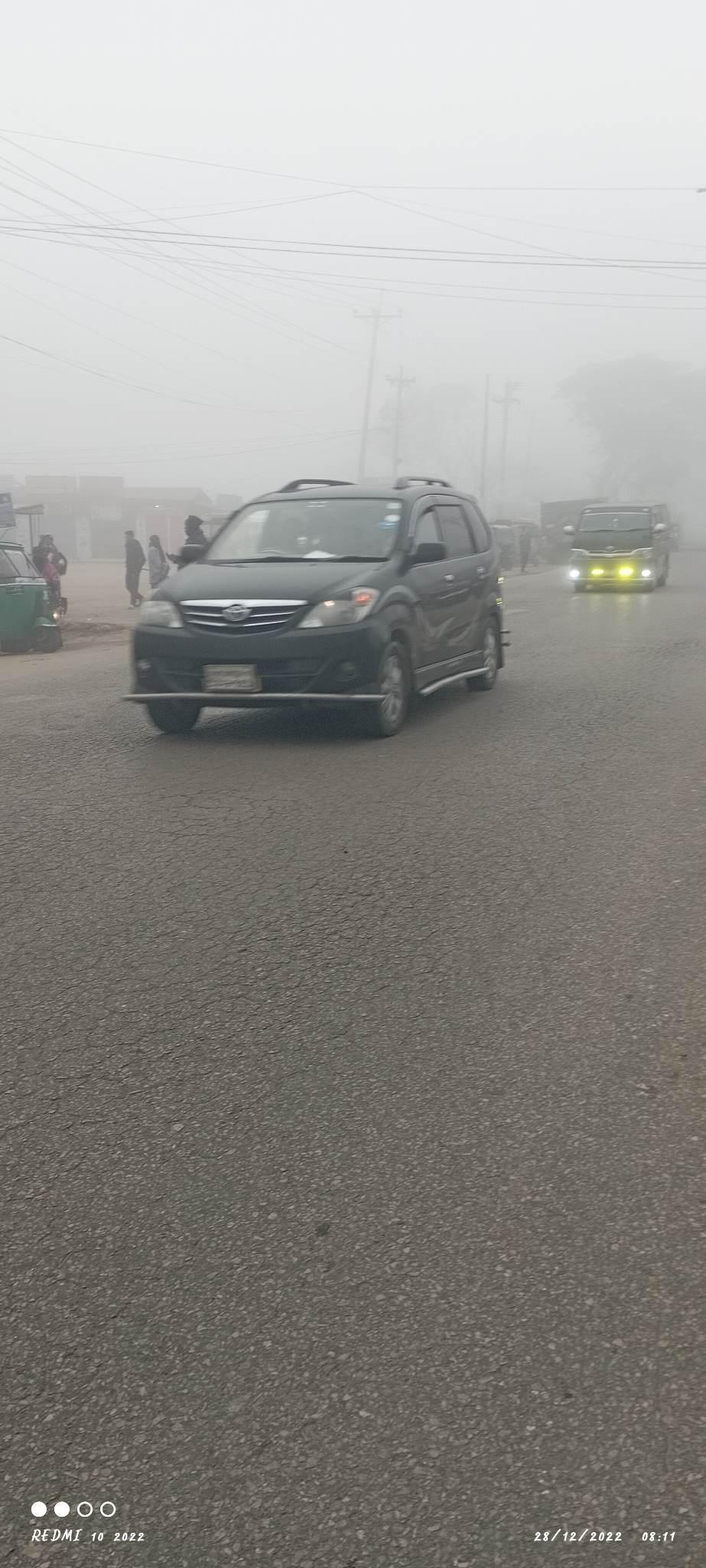Car: (130, 466, 542, 763), (564, 495, 685, 611)
